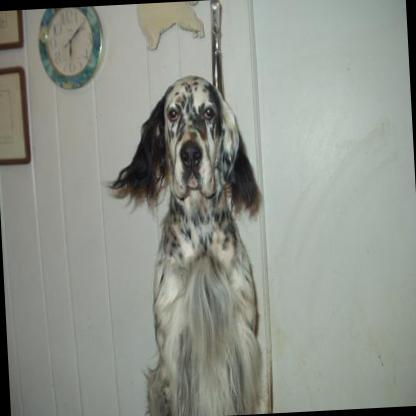English_setter: (93, 69, 274, 416)
